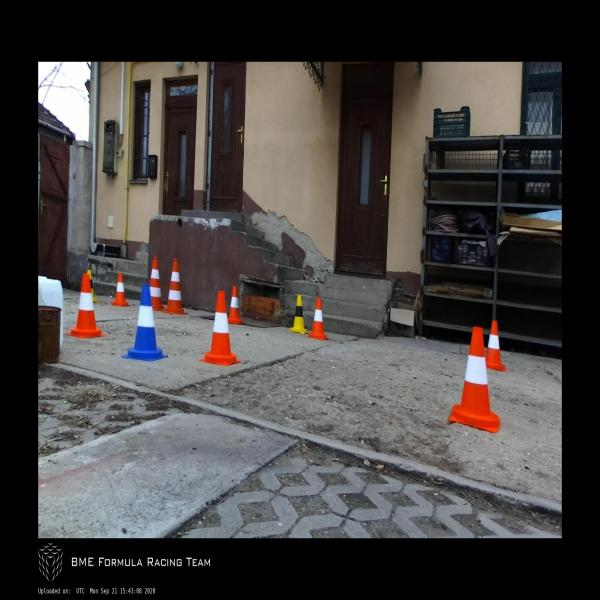blue_cone: (121, 283, 168, 361)
large_orange_cone: (162, 260, 188, 314), (149, 256, 165, 310)
orange_cone: (449, 327, 501, 434), (200, 290, 241, 366), (66, 273, 106, 338), (485, 320, 506, 372), (307, 297, 329, 340), (227, 285, 245, 324), (112, 273, 128, 306)
yellow_cone: (290, 294, 308, 334), (86, 270, 97, 302)
